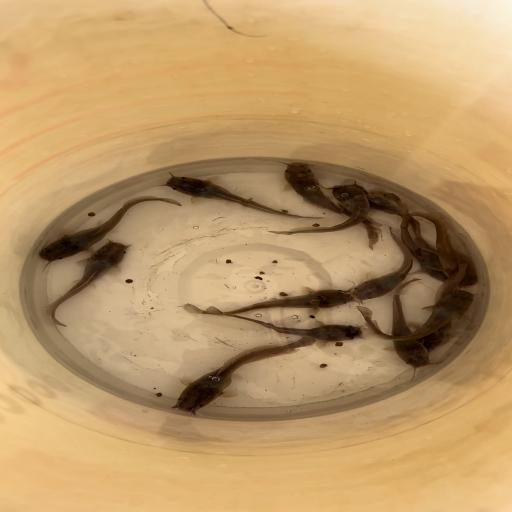lele: (172, 336, 316, 414), (38, 195, 182, 263), (276, 161, 382, 251), (45, 241, 128, 328), (181, 303, 364, 342), (164, 176, 326, 220), (356, 288, 475, 343), (267, 184, 369, 237), (342, 183, 430, 243), (348, 226, 414, 304), (411, 211, 479, 286), (412, 258, 467, 350), (208, 286, 355, 319), (395, 202, 454, 280), (388, 279, 433, 368)
